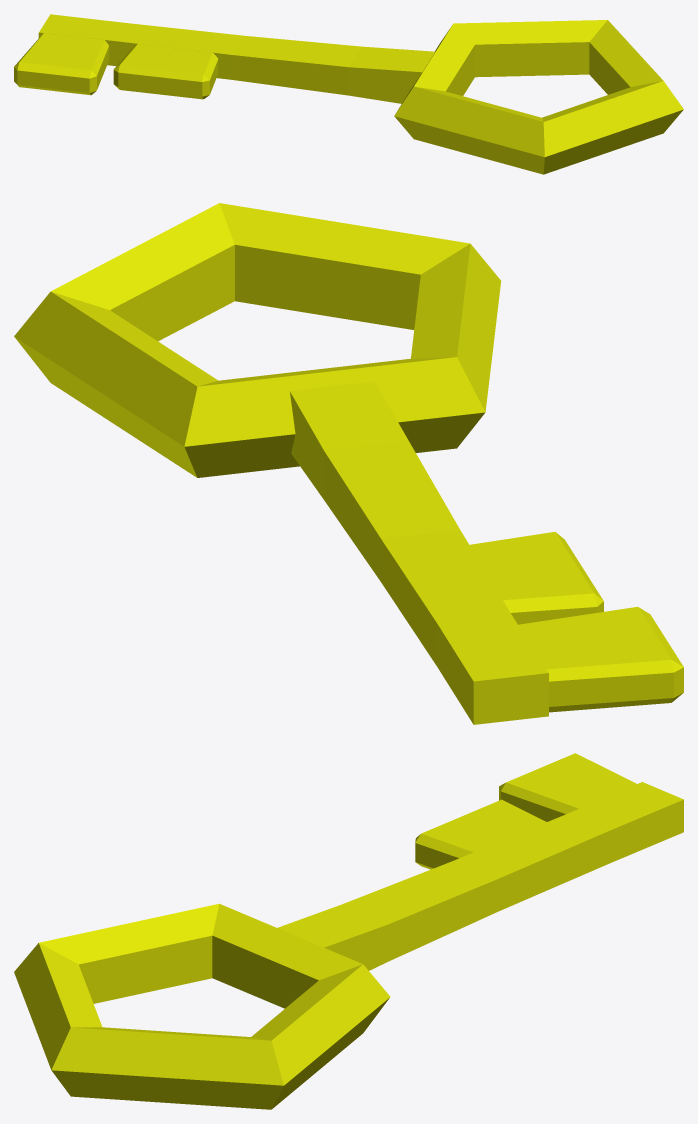
The model's file is key.fbx.
3 renders of one model, top to bottom at view 1: azimuth 30°, elevation 25°; view 2: azimuth 150°, elevation 25°; view 3: azimuth 270°, elevation 25°, orthographic. The views are drawn at different scales.
Parts seen in each view (by area): view 1: level 1.002; view 2: level 1.002; view 3: level 1.002.
Part boxes in pixels (x1,y1,x2,y2): level 1.002: (14,14,683,174); level 1.002: (14,203,683,724); level 1.002: (14,753,683,1109).
Bounding box in the file's own units: 217 × 22.14 × 195.
